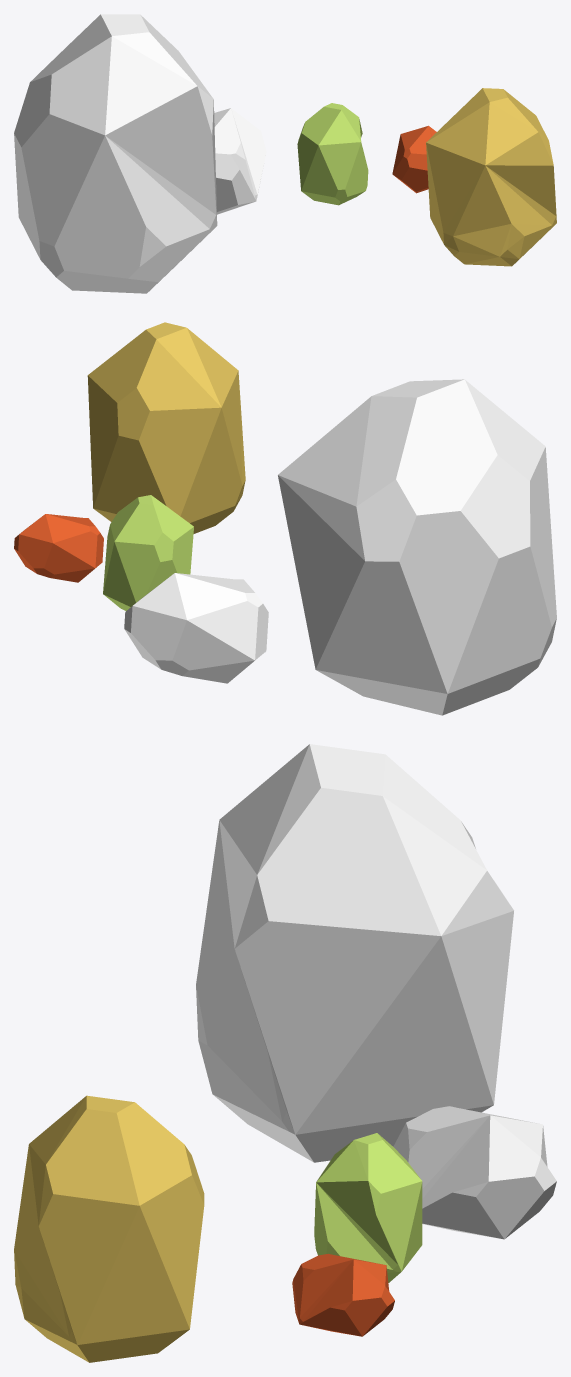
The picture shows the model from 3 angles, top to bottom: view 1: azimuth 30°, elevation 25°; view 2: azimuth 150°, elevation 25°; view 3: azimuth 270°, elevation 25°; orthographic projection. The views are drawn at different scales.
Visible parts, largest first — view 1: Rock.004, Rock.002, Rock, Rock.003, Rock.001; view 2: Rock.004, Rock.002, Rock.003, Rock, Rock.001; view 3: Rock.004, Rock.002, Rock.003, Rock, Rock.001.
Boxes of the visible parts, bbox=[...] form: Rock.004: bbox=[14, 14, 217, 293]; Rock.002: bbox=[426, 88, 556, 266]; Rock: bbox=[297, 103, 368, 205]; Rock.003: bbox=[214, 108, 266, 214]; Rock.001: bbox=[392, 125, 436, 193]; Rock.004: bbox=[278, 379, 556, 715]; Rock.002: bbox=[87, 322, 245, 533]; Rock.003: bbox=[124, 573, 268, 683]; Rock: bbox=[103, 495, 193, 610]; Rock.001: bbox=[14, 514, 103, 582]; Rock.004: bbox=[196, 744, 513, 1162]; Rock.002: bbox=[14, 1095, 204, 1362]; Rock.003: bbox=[393, 1106, 556, 1239]; Rock: bbox=[314, 1133, 422, 1282]; Rock.001: bbox=[292, 1253, 394, 1336].
Size of what is drawn, in the model's own units: 12.01 by 6.57 by 8.53.
